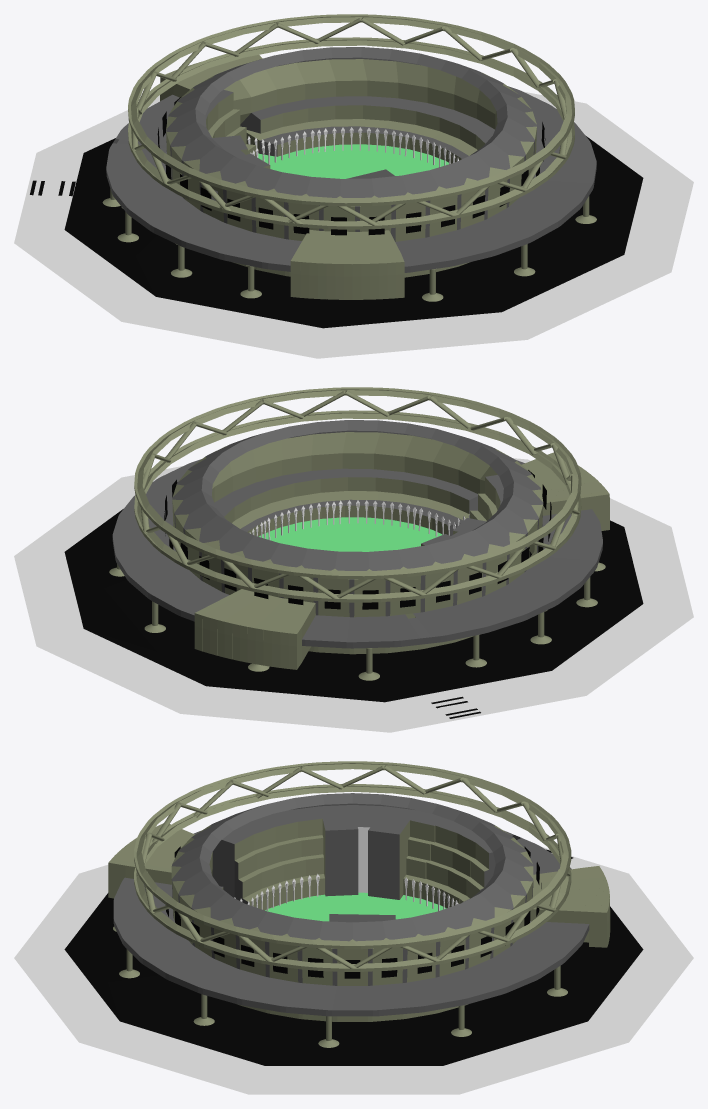
File: cricket_stadium.glb
3 renders of one model, top to bottom at view 1: azimuth 30°, elevation 25°; view 2: azimuth 150°, elevation 25°; view 3: azimuth 270°, elevation 25°, orthographic. The views are drawn at different scales.
Parts seen in each view (by area): view 1: Circle_0; view 2: Circle_0; view 3: Circle_0.
Boxes of the visible parts, bbox=[...] form: Circle_0: bbox=[14, 14, 693, 358]; Circle_0: bbox=[14, 387, 693, 732]; Circle_0: bbox=[14, 761, 693, 1094].
Size of the model in its own units: 50.65 by 9.02 by 53.25.
